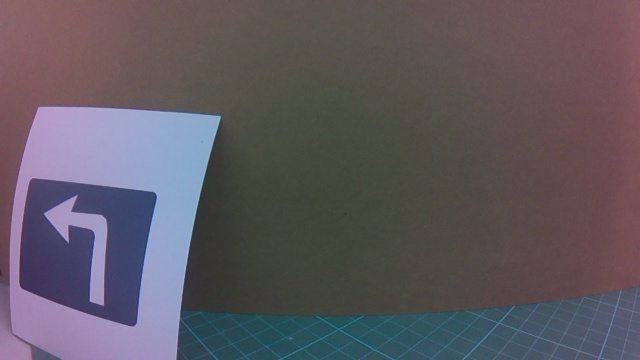left: (12, 155, 204, 326)
